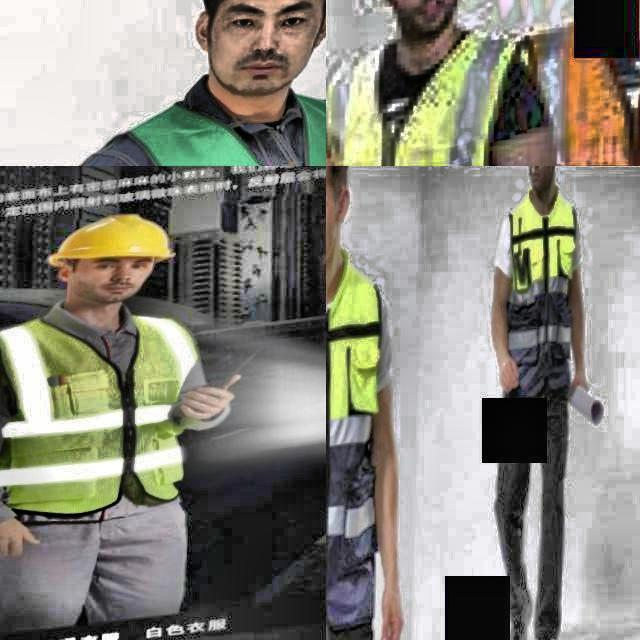safety_jacket: (0, 297, 196, 530), (326, 43, 506, 166), (326, 276, 385, 565), (532, 27, 640, 166), (505, 208, 583, 386), (123, 98, 326, 166)
